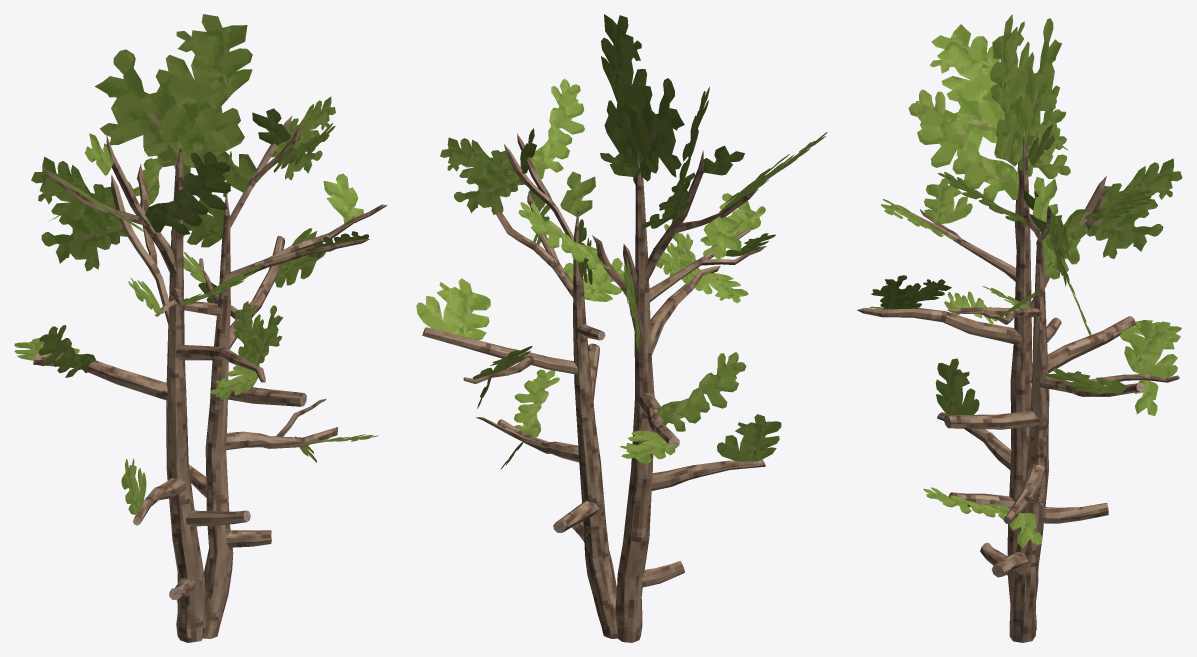
Rendered from Tree_ElmTwin.fbx.
3 views of the same model, side by side, from view 1: azimuth 30°, elevation 25°; view 2: azimuth 150°, elevation 25°; view 3: azimuth 270°, elevation 25° (orthographic).
Visible parts, largest first — view 1: TrunkMain, TreeLeaves_01, TreeLeaves_20, TreeLeaves_02, TreeLeaves_27, Elm_Branch_18, TreeLeaves_08, Elm_Branch_17, Elm_Branch_19, Elm_Branch_06, Elm_Branch_01, TreeLeaves_19 (+17 smaller); view 2: TrunkMain, TreeLeaves_01, TreeLeaves_08, TreeLeaves_14, TreeLeaves_19, TreeLeaves_07, Elm_Branch_10, TreeLeaves_25, Elm_Branch_18, TreeLeaves_11, TreeLeaves_15, Elm_Branch_11 (+23 smaller); view 3: TrunkMain, TreeLeaves_01, TreeLeaves_04, TreeLeaves_02, TreeLeaves_20, TreeLeaves_17, Elm_Branch_13, TreeLeaves_25, TreeLeaves_27, TreeLeaves_05, Elm_Branch_01, TreeLeaves_30 (+24 smaller).
Boxes of the visible parts, x1=… form: TrunkMain: x1=166, y1=148, x2=233, y2=642; TreeLeaves_01: x1=95, y1=14, x2=252, y2=178; TreeLeaves_20: x1=31, y1=156, x2=127, y2=271; TreeLeaves_02: x1=145, y1=151, x2=230, y2=234; TreeLeaves_27: x1=233, y1=301, x2=283, y2=366; Elm_Branch_18: x1=42, y1=134, x2=177, y2=275; TreeLeaves_08: x1=271, y1=96, x2=335, y2=180; Elm_Branch_17: x1=225, y1=398, x2=337, y2=449; Elm_Branch_19: x1=111, y1=163, x2=168, y2=324; Elm_Branch_06: x1=228, y1=204, x2=387, y2=279; Elm_Branch_01: x1=33, y1=353, x2=167, y2=400; TreeLeaves_19: x1=39, y1=325, x2=95, y2=377; TrunkMain: x1=573, y1=154, x2=654, y2=642; TreeLeaves_01: x1=601, y1=14, x2=684, y2=184; TreeLeaves_08: x1=440, y1=137, x2=524, y2=214; TreeLeaves_14: x1=416, y1=278, x2=490, y2=340; TreeLeaves_19: x1=656, y1=352, x2=746, y2=431; TreeLeaves_07: x1=531, y1=79, x2=584, y2=179; Elm_Branch_10: x1=422, y1=327, x2=577, y2=383; TreeLeaves_25: x1=717, y1=414, x2=781, y2=461; Elm_Branch_18: x1=644, y1=150, x2=758, y2=281; TreeLeaves_11: x1=518, y1=202, x2=610, y2=269; TreeLeaves_15: x1=514, y1=369, x2=559, y2=437; Elm_Branch_11: x1=650, y1=459, x2=765, y2=490; TrunkMain: x1=1007, y1=136, x2=1049, y2=642; TreeLeaves_01: x1=990, y1=14, x2=1061, y2=170; TreeLeaves_04: x1=915, y1=24, x2=1004, y2=156; TreeLeaves_02: x1=908, y1=89, x2=1018, y2=201; TreeLeaves_20: x1=1085, y1=158, x2=1182, y2=258; TreeLeaves_17: x1=1124, y1=320, x2=1178, y2=378; Elm_Branch_13: x1=857, y1=307, x2=1022, y2=344; TreeLeaves_25: x1=935, y1=358, x2=979, y2=414; TreeLeaves_27: x1=871, y1=275, x2=951, y2=309; TreeLeaves_05: x1=1027, y1=98, x2=1070, y2=178; Elm_Branch_01: x1=1029, y1=316, x2=1135, y2=382; TreeLeaves_30: x1=924, y1=178, x2=972, y2=224.
Bounding box in the file's own units: 895 × 1554 × 740.
2 materials, 2 textured.
